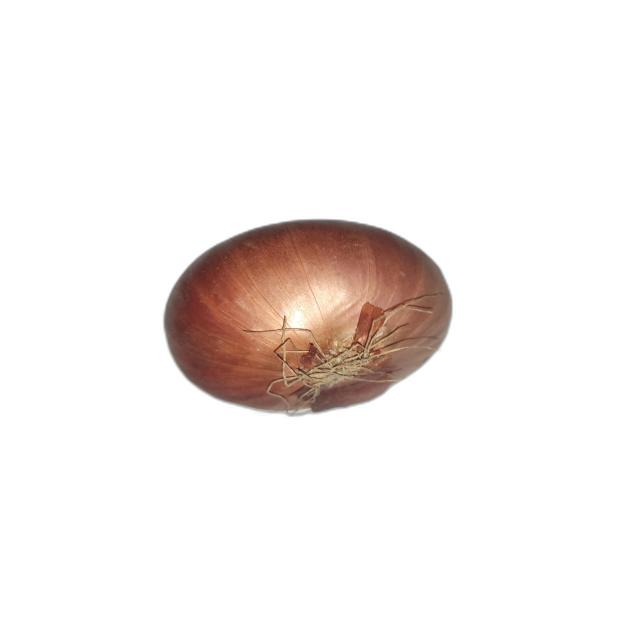onion: (162, 218, 456, 418)
